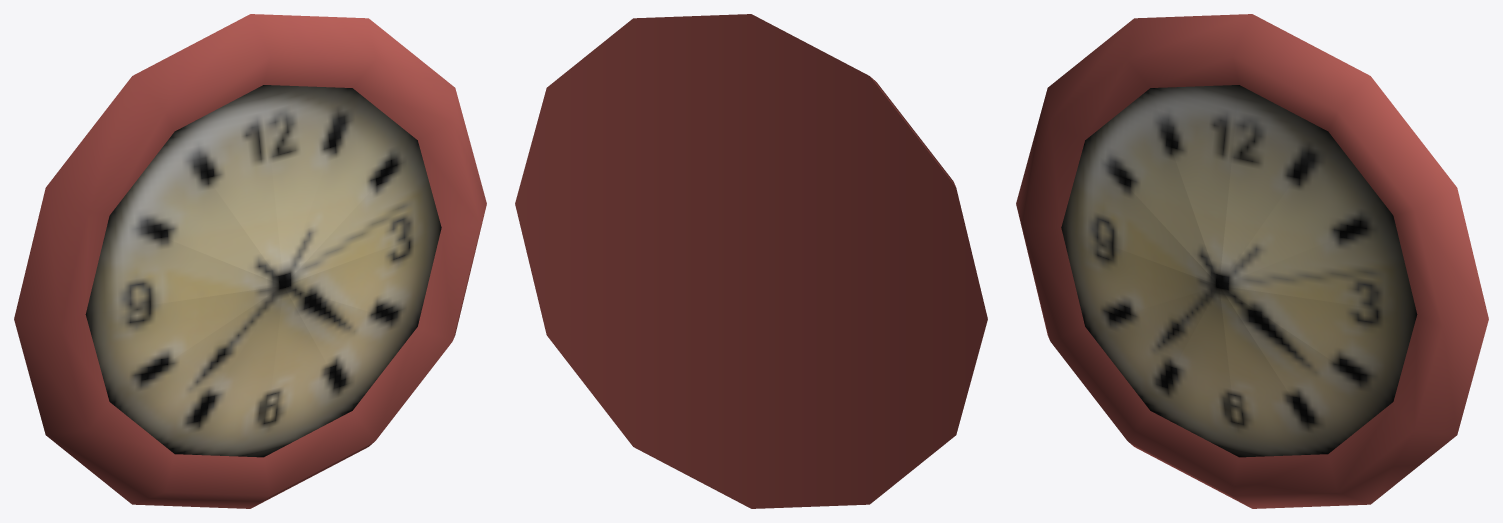
Rendered from Wall_Clock_E.FBX.
3 views of the same model, side by side, from view 1: azimuth 30°, elevation 25°; view 2: azimuth 150°, elevation 25°; view 3: azimuth 330°, elevation 25° (orthographic).
Visible parts, largest first — view 1: Wall_Clock; view 2: Wall_Clock; view 3: Wall_Clock.
Part boxes in pixels (x1,y1,x2,y2): Wall_Clock: [14, 14, 486, 508]; Wall_Clock: [515, 14, 987, 508]; Wall_Clock: [1016, 14, 1488, 508].
Bounding box in the file's own units: 118 × 118 × 14.32.
